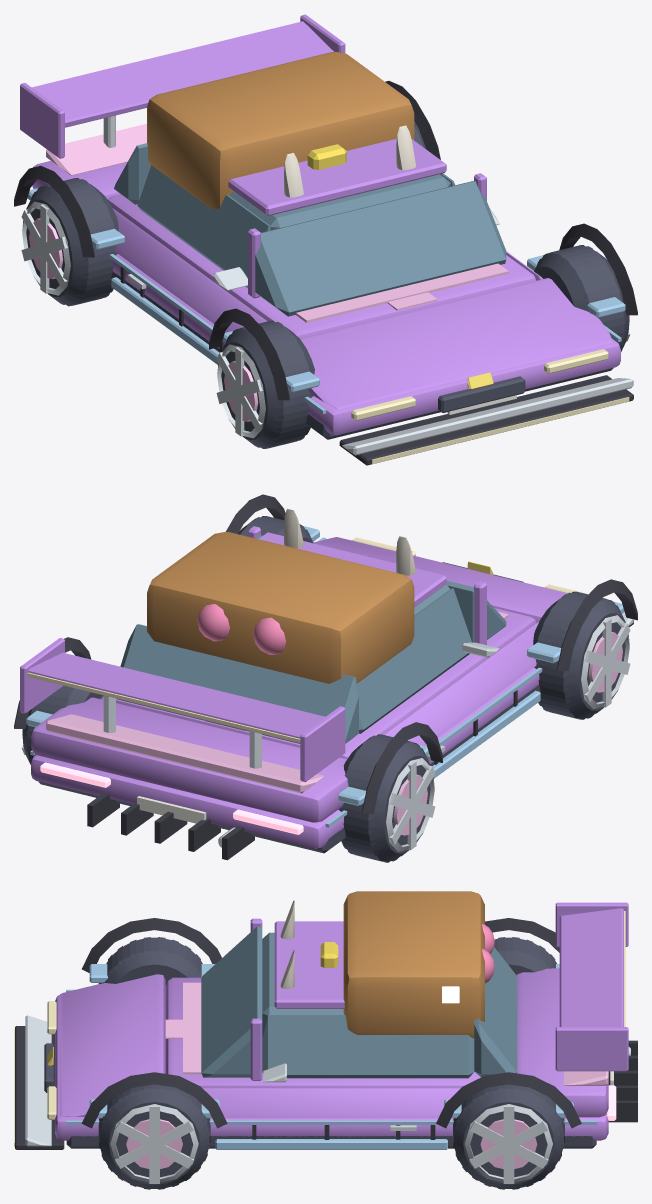
Rendered from treasure_tug.fbx.
3 renders of one model, top to bottom at view 1: azimuth 30°, elevation 25°; view 2: azimuth 150°, elevation 25°; view 3: azimuth 270°, elevation 25°, orthographic. The views are drawn at different scales.
Visible parts, largest first — view 1: Body, Glass, Accent7, Trim, Metal, Wheel_FR, Wheel_RR, Accent3, Accent2, Accent, Wheel_FL, Light (+4 smaller); view 2: Body, Accent7, Glass, Trim, Metal, Accent3, Wheel_FR, Wheel_RR, Accent, Accent5, Light, Light2 (+6 smaller); view 3: Body, Glass, Accent7, Trim, Metal, Wheel_RL, Wheel_FL, Accent, Wheel_FR, Accent2, Accent3, Trim2 (+6 smaller).
Boxes of the visible parts, <box> form: Body: <box>20,14,620,434</box>; Glass: <box>114,143,506,316</box>; Accent7: <box>147,52,414,209</box>; Trim: <box>14,81,637,465</box>; Metal: <box>21,115,630,438</box>; Wheel_FR: <box>217,320,314,448</box>; Wheel_RR: <box>22,178,118,306</box>; Accent3: <box>46,123,508,322</box>; Accent2: <box>213,208,633,455</box>; Accent: <box>27,188,625,413</box>; Wheel_FL: <box>534,245,629,351</box>; Light: <box>351,349,629,463</box>; Body: <box>20,526,567,848</box>; Accent7: <box>147,532,414,683</box>; Glass: <box>117,534,506,743</box>; Trim: <box>14,494,637,860</box>; Metal: <box>21,528,630,851</box>; Accent3: <box>46,612,508,793</box>; Wheel_FR: <box>533,591,629,719</box>; Wheel_RR: <box>338,734,434,862</box>; Accent: <box>26,526,624,827</box>; Accent5: <box>197,604,286,654</box>; Light: <box>27,537,607,742</box>; Light2: <box>40,762,303,834</box>; Body: <box>55,902,628,1140</box>; Glass: <box>201,926,517,1078</box>; Accent7: <box>343,891,484,1038</box>; Trim: <box>15,918,637,1149</box>; Metal: <box>110,1047,630,1183</box>; Wheel_RL: <box>453,1084,564,1189</box>; Wheel_FL: <box>98,1084,210,1189</box>; Accent: <box>66,964,597,1149</box>; Wheel_FR: <box>98,937,202,985</box>; Accent2: <box>25,1015,286,1146</box>; Accent3: <box>183,982,608,1085</box>; Trim2: <box>44,1043,596,1148</box>.
Size of the model in its own units: 3.3 by 1.76 by 5.3.
